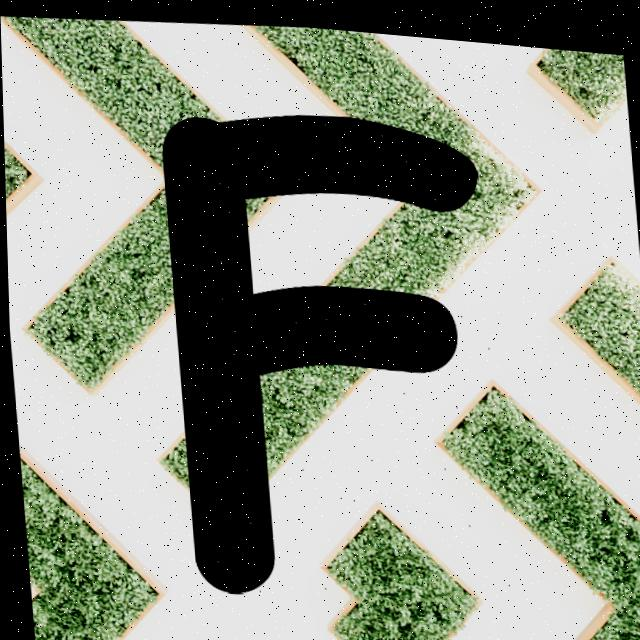F: (163, 110, 477, 589)
